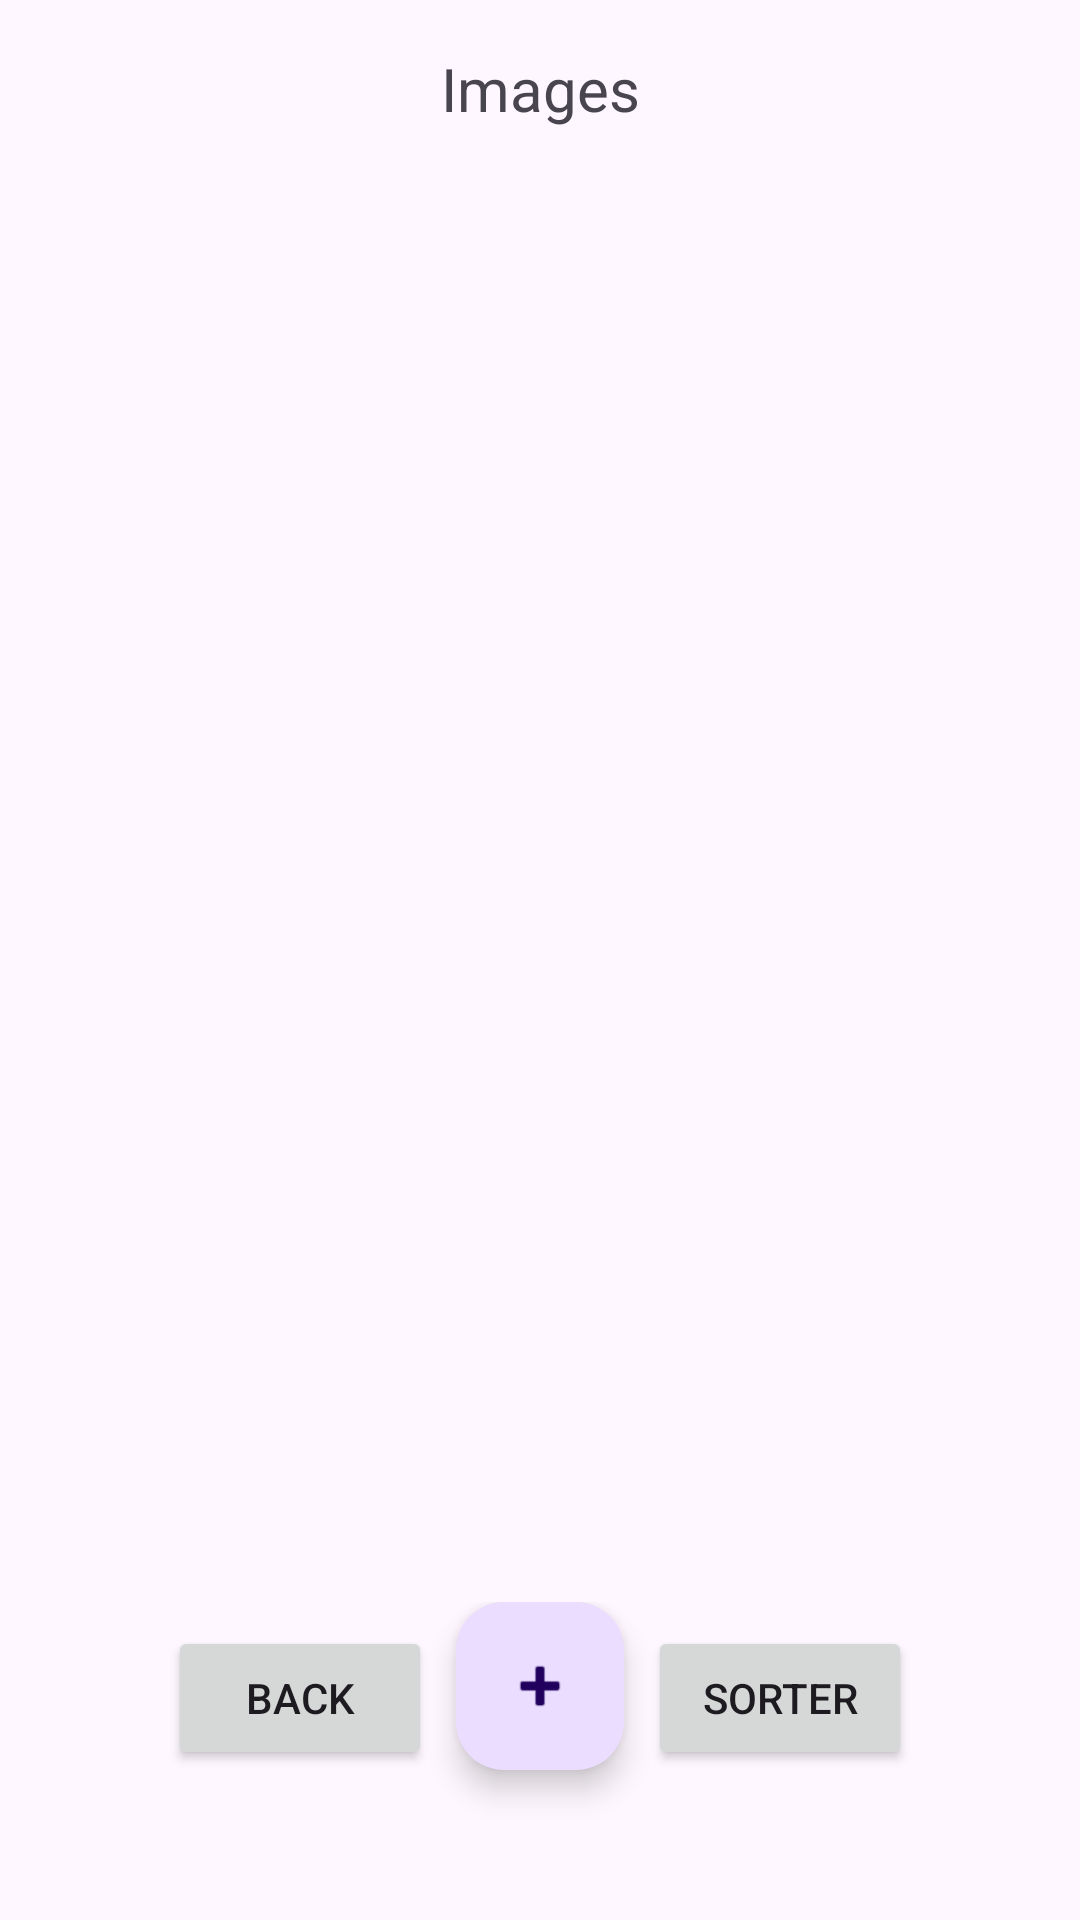

Named icons in this screenshot (1080×1920) and their bounding boxes, (x1, y1, x2, y2):
add: (456, 1602, 624, 1770)
